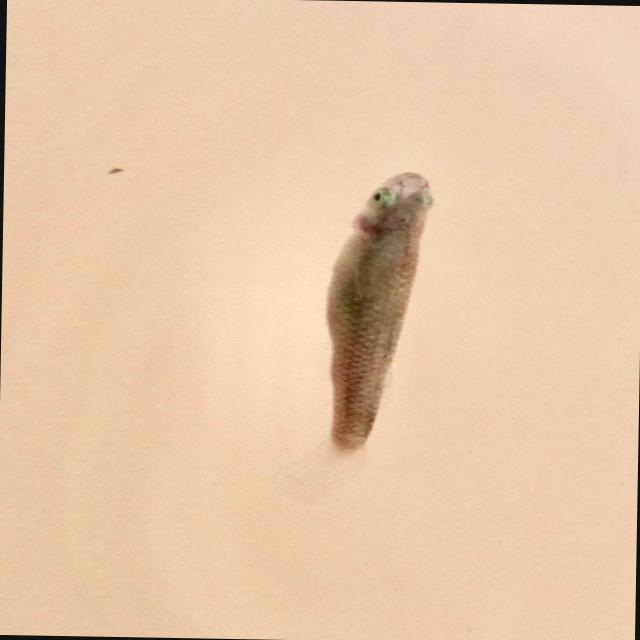Sivrisinek Baligi: (310, 165, 438, 458)
